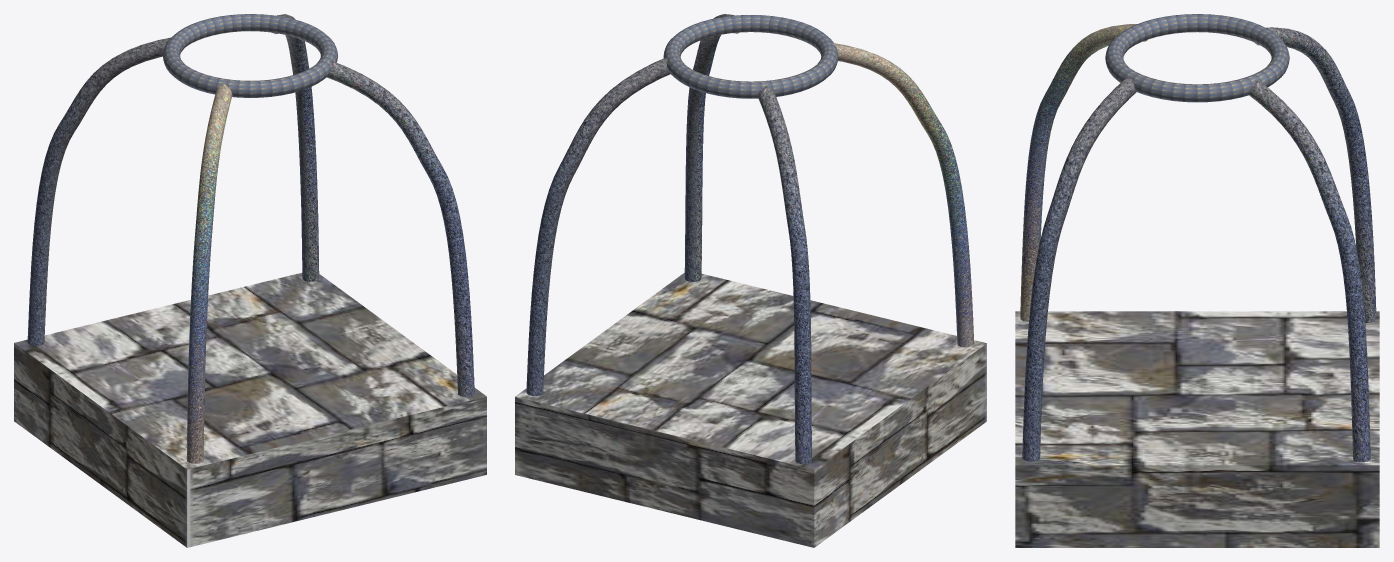
Rendered from GemTower.gltf.
3 renders of one model, left to right at view 1: azimuth 30°, elevation 25°; view 2: azimuth 150°, elevation 25°; view 3: azimuth 270°, elevation 25°, orthographic. The views are drawn at different scales.
Parts seen in each view (by area): view 1: TowerBase, TowerSide, TowerTop; view 2: TowerBase, TowerSide, TowerTop; view 3: TowerBase, TowerSide, TowerTop.
Part boxes in pixels (x1,y1,x2,y2): TowerBase: (14,272,486,547); TowerSide: (27,14,474,463); TowerTop: (163,14,337,97); TowerBase: (515,273,986,547); TowerSide: (526,14,974,464); TowerTop: (663,15,838,98); TowerBase: (1015,311,1379,547); TowerSide: (1020,24,1376,462); TowerTop: (1105,14,1289,102).
Bounding box in the file's own units: 2 × 2.55 × 2.
3 materials, 3 textured.
